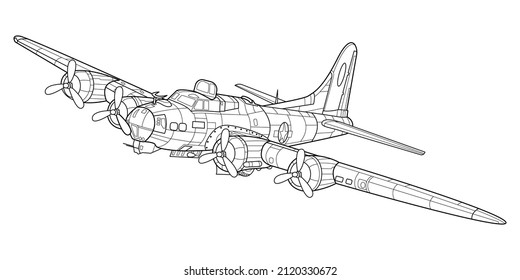airplane: (13, 30, 508, 228)
